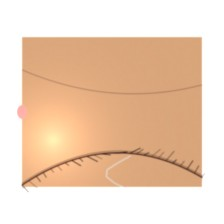foreign_body_visible: (90, 100, 118, 122)
